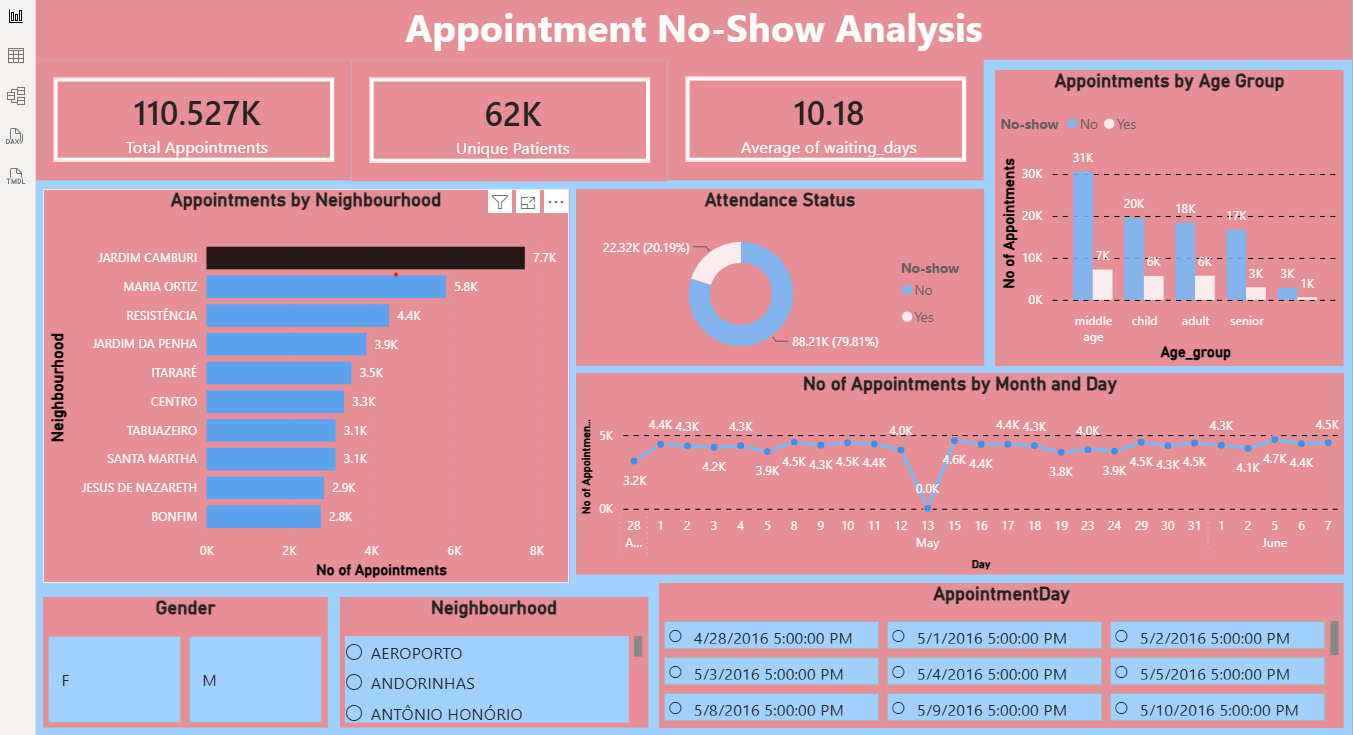

What the dashboard file says about the page in this screenshot:
{"tool":"powerbi","page":{"name":"Page 1","canvas":[1280,720],"ordinal":0},"visuals":[{"type":"textbox","box":[0,0,1280,62.2],"z":0},{"type":"cardVisual","fields":{"Data":["CountNonNull(appointment_noshow_cleaned.AppointmentID)"]},"box":[0,62.2,307.4,116.7],"z":1000},{"type":"clusteredBarChart","title":"Appointments by Neighbourhood","fields":{"Category":["appointment_noshow_cleaned.Neighbourhood"],"Y":["appointment_noshow_cleaned.No of Appointments"]},"box":[6.8,187.7,511.6,383.2],"z":2000},{"type":"donutChart","title":"Attendance Status","fields":{"Category":["appointment_noshow_cleaned.No-show"],"Y":["CountNonNull(appointment_noshow_cleaned.AppointmentID)"]},"box":[525.2,187.7,390,172.2],"z":3000},{"type":"lineChart","fields":{"Y":["appointment_noshow_cleaned.No of Appointments"],"Category":["appointment_noshow_cleaned.AppointmentDay.Variation.Date Hierarchy.Month","appointment_noshow_cleaned.AppointmentDay.Variation.Date Hierarchy.Day"]},"box":[525.2,366.7,747,196.5],"z":4000},{"type":"clusteredColumnChart","title":"Appointments by Age Group","fields":{"Category":["appointment_noshow_cleaned.Age_group"],"Y":["appointment_noshow_cleaned.No of Appointments"],"Series":["appointment_noshow_cleaned.No-show"]},"box":[932.8,72,339.5,287.9],"z":5000},{"type":"cardVisual","fields":{"Data":["appointment_noshow_cleaned.Unique Patients"]},"box":[307.4,62.2,307.4,117.7],"z":6000},{"type":"cardVisual","fields":{"Data":["Avg(appointment_noshow_cleaned.waiting_days)"]},"box":[614.7,61.3,307.4,117.7],"z":7000},{"type":"advancedSlicerVisual","fields":{"Values":["appointment_noshow_cleaned.Gender"]},"box":[6.8,584.6,277.2,127.4],"z":7001},{"type":"listSlicer","fields":{"Values":["appointment_noshow_cleaned.Neighbourhood"]},"box":[295.7,584.6,299.6,127.4],"z":7002},{"type":"advancedSlicerVisual","fields":{"Values":["appointment_noshow_cleaned.AppointmentDay"]},"box":[606,570.9,666.3,141],"z":7003}]}

Visuals, with their boxes in screenshot pixels (x1, y1, x2, y2):
textbox: (56, 11, 1347, 73)
cardVisual - CountNonNull(appointment_noshow_cleaned.AppointmentID): (56, 73, 366, 191)
"Appointments by Neighbourhood" clusteredBarChart: (63, 200, 579, 586)
"Attendance Status" donutChart: (586, 200, 979, 374)
lineChart - appointment_noshow_cleaned.No of Appointments x appointment_noshow_cleaned.AppointmentDay.Variation.Date Hierarchy.Month: (586, 380, 1340, 579)
"Appointments by Age Group" clusteredColumnChart: (997, 83, 1340, 374)
cardVisual - appointment_noshow_cleaned.Unique Patients: (366, 73, 676, 192)
cardVisual - Avg(appointment_noshow_cleaned.waiting_days): (676, 72, 986, 191)
advancedSlicerVisual - appointment_noshow_cleaned.Gender: (63, 600, 343, 729)
listSlicer - appointment_noshow_cleaned.Neighbourhood: (355, 600, 657, 729)
advancedSlicerVisual - appointment_noshow_cleaned.AppointmentDay: (668, 586, 1340, 729)
